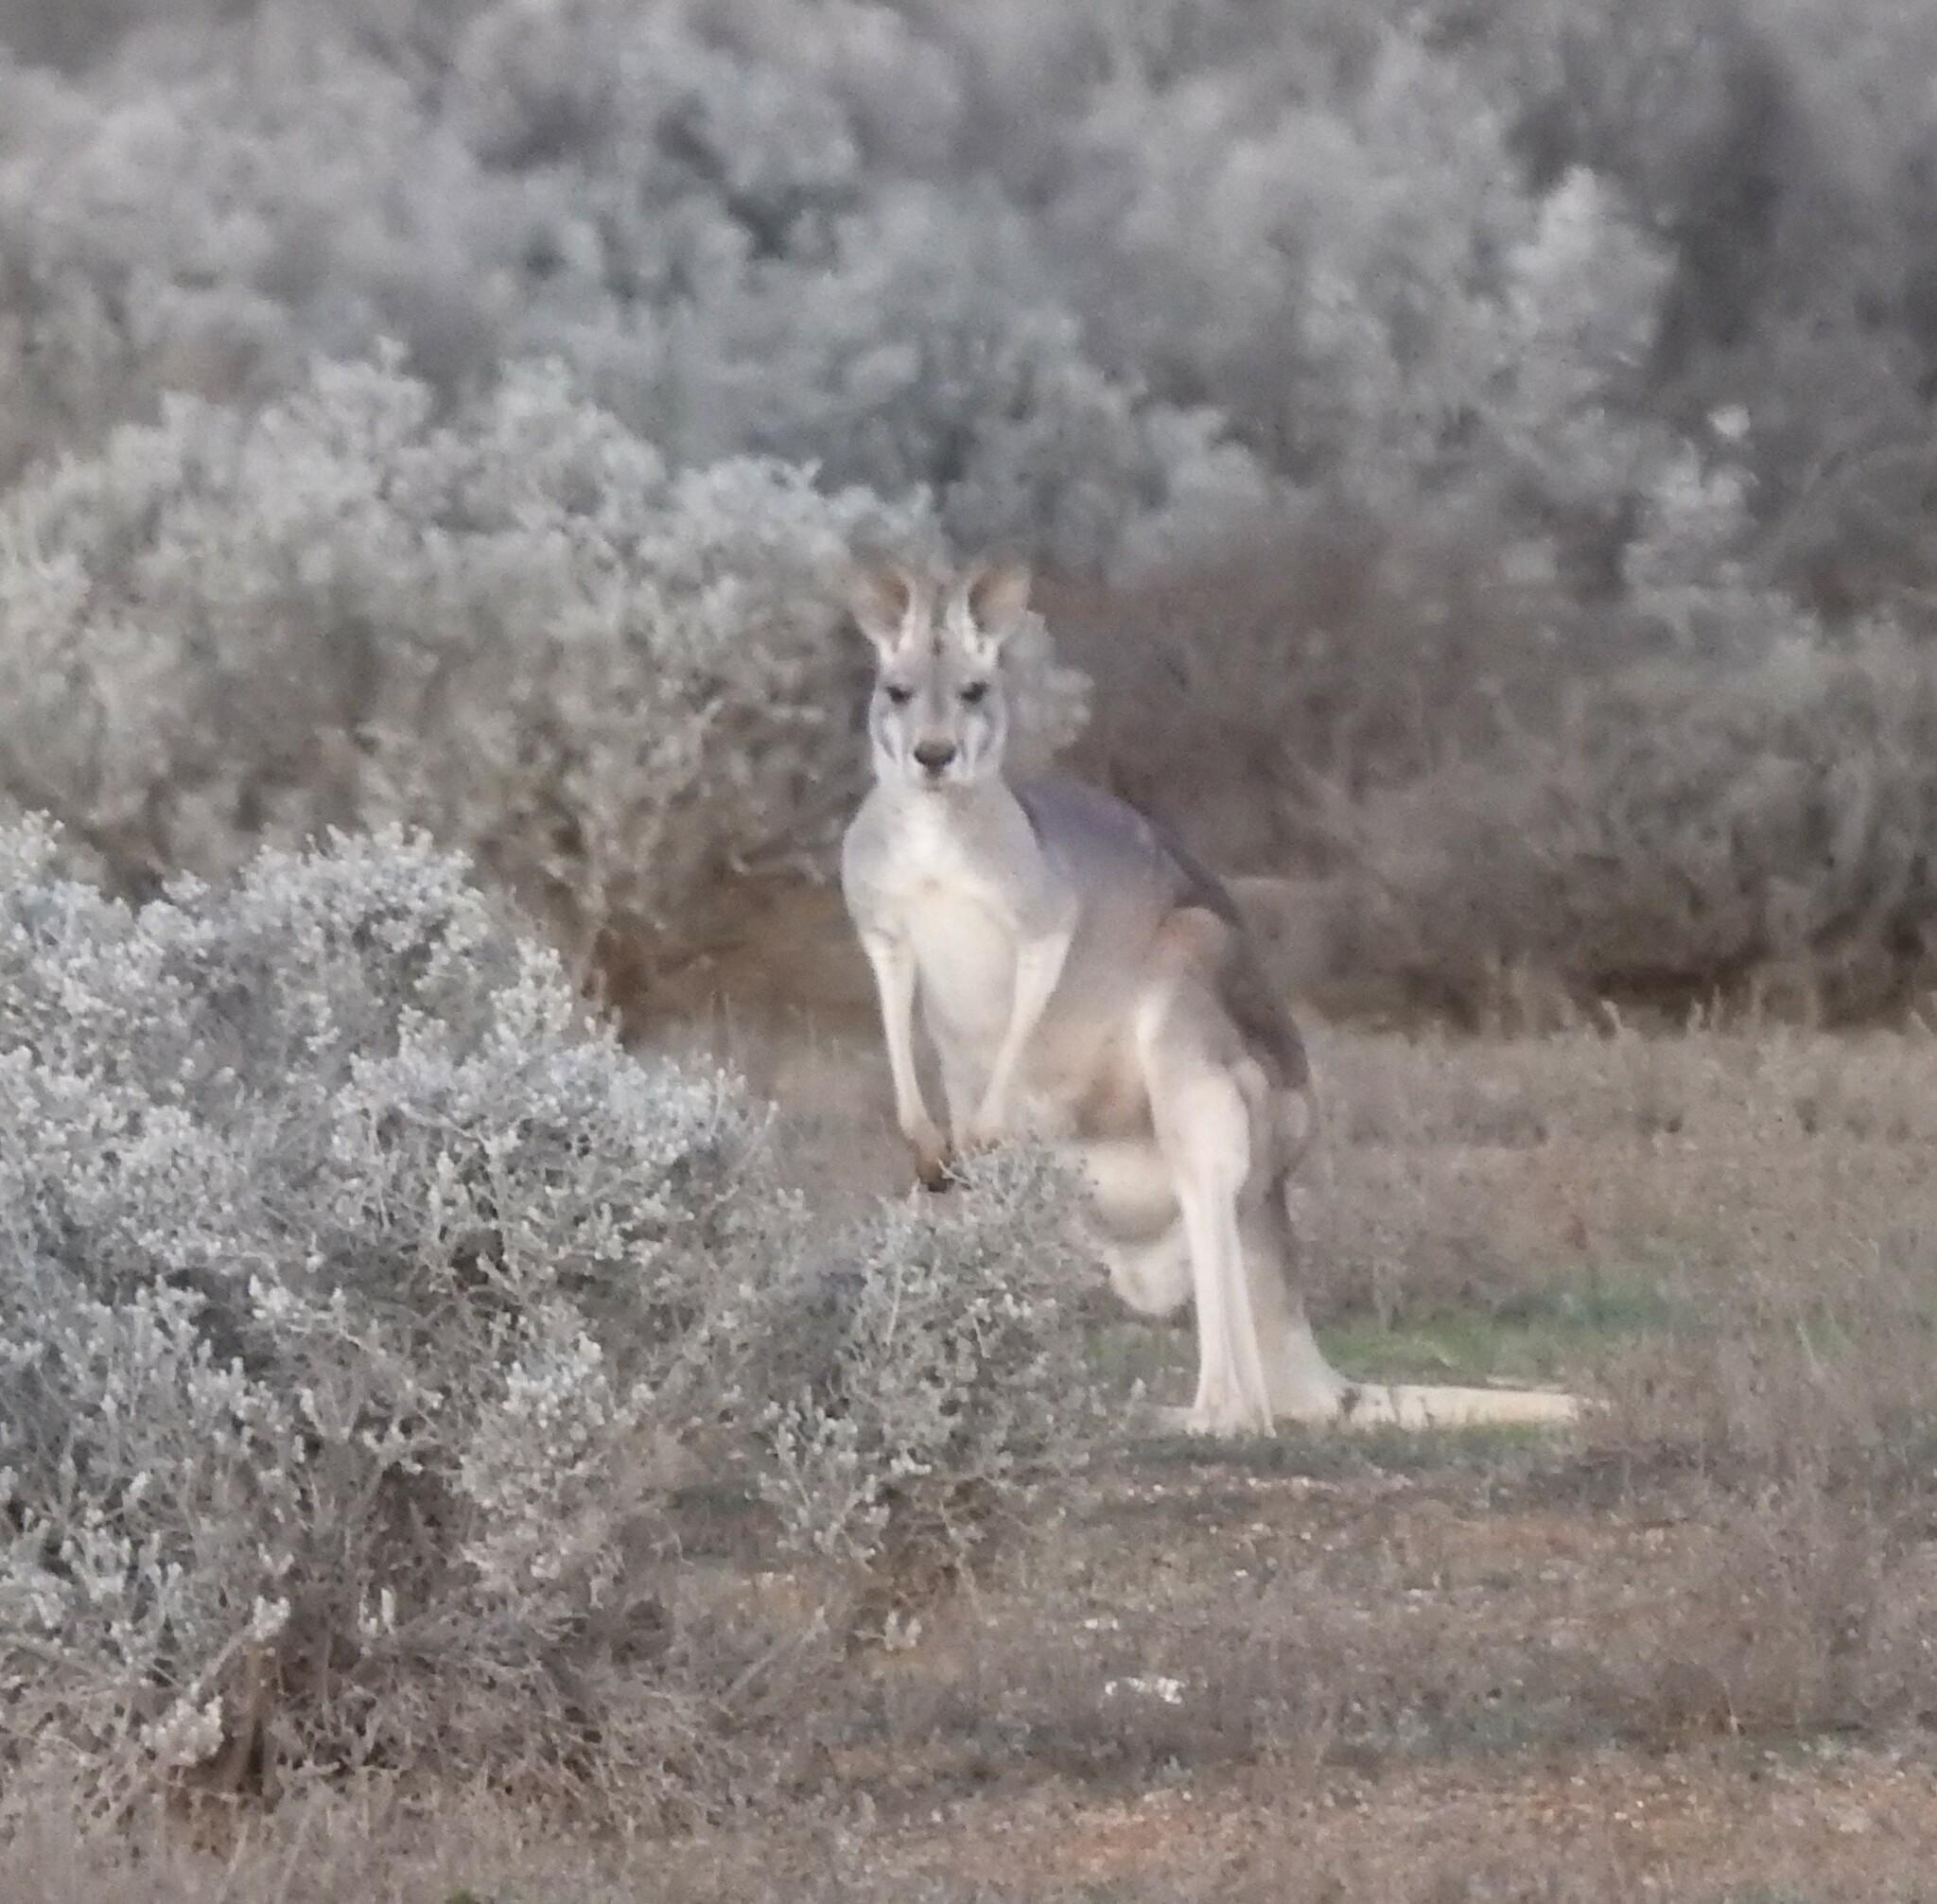Red kangaroo: (821, 551, 1859, 1470)
